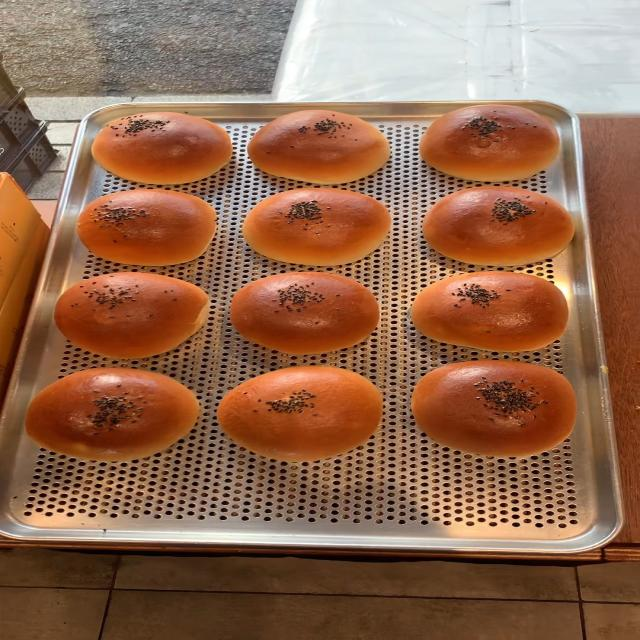bread: (405, 360, 581, 459), (25, 368, 198, 461), (220, 368, 379, 461), (419, 184, 577, 268), (55, 272, 208, 355), (414, 275, 570, 350), (418, 102, 566, 179), (230, 273, 376, 350), (244, 186, 390, 263), (245, 105, 390, 182), (73, 187, 217, 263), (88, 106, 231, 182)
